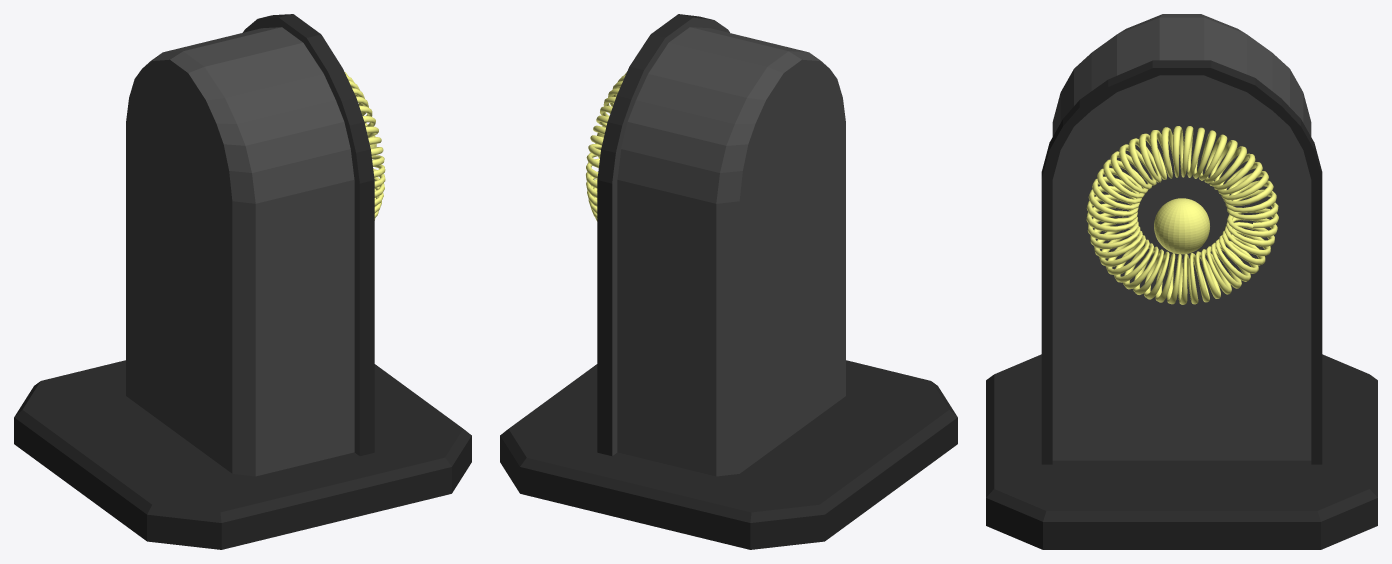
The model's file is emisor.fbx.
3 views of the same model, side by side, from view 1: azimuth 30°, elevation 25°; view 2: azimuth 150°, elevation 25°; view 3: azimuth 270°, elevation 25° (orthographic). The views are drawn at different scales.
Visible parts, largest first — view 1: body.001, base.003, screw; view 2: body.001, base.003, screw; view 3: body.001, base.003, screw, Sphere.005.
Part boxes in pixels (x1=…): body.001: x1=126, y1=14, x2=374, y2=476; base.003: x1=14, y1=360, x2=471, y2=549; screw: x1=344, y1=72, x2=385, y2=220; body.001: x1=597, y1=14, x2=845, y2=476; base.003: x1=500, y1=360, x2=957, y2=549; screw: x1=586, y1=72, x2=626, y2=221; body.001: x1=1041, y1=14, x2=1322, y2=464; base.003: x1=986, y1=354, x2=1377, y2=549; screw: x1=1086, y1=126, x2=1278, y2=304; Sphere.005: x1=1154, y1=198, x2=1209, y2=254.
Bounding box in the file's own units: 200 × 243 × 200.
